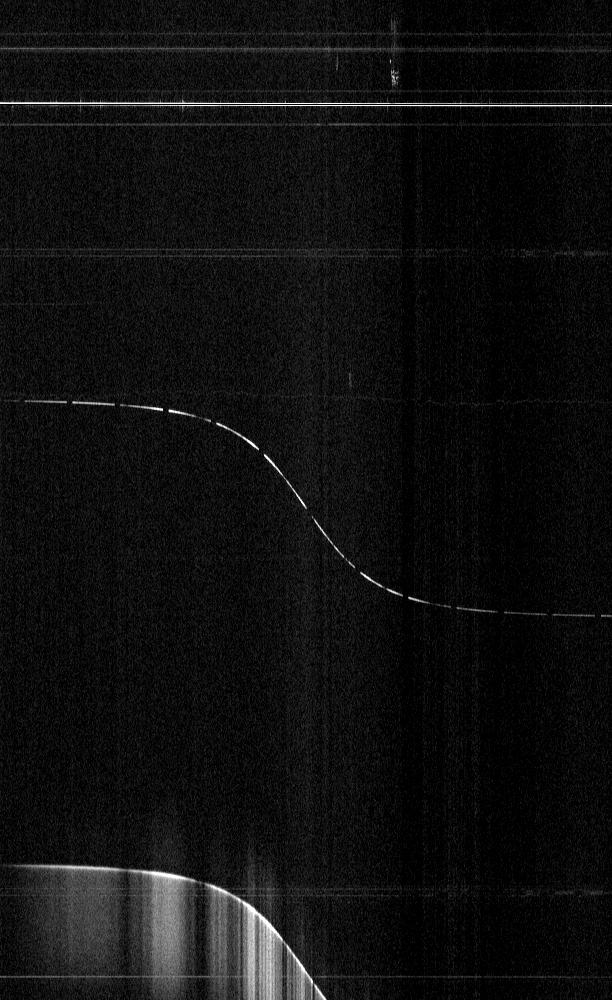signal: (0, 0, 611, 999)
